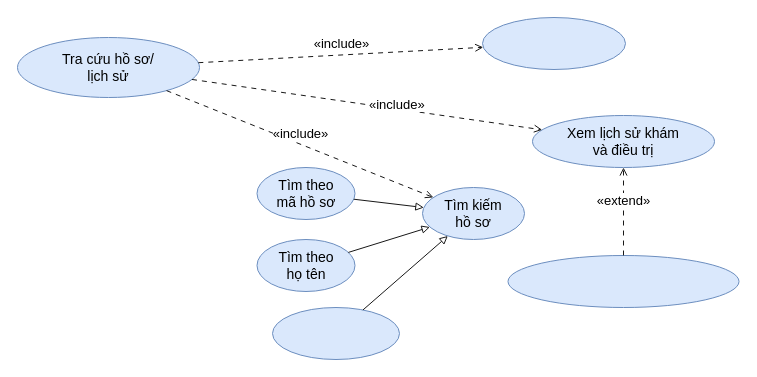
Some shapes in this 757 by 377 pixel diagram are drawn without their labels. Each missing label, with the centre of its shape:
Lọc theo loại đợt khám (điều trị / định kỳ): [623,281]
Tìm theo số điện thoại: [336,333]
Xem thông tin bệnh nhân: [554,43]
